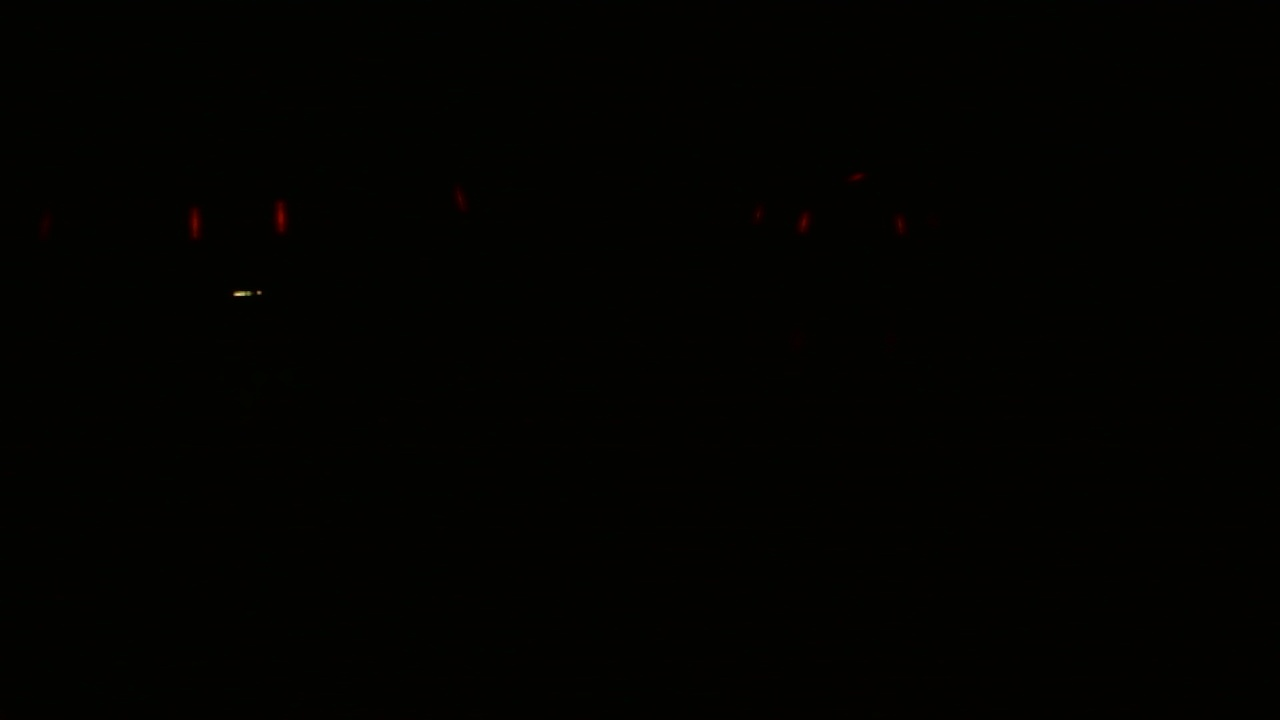pair1: (182, 193, 300, 248), (755, 205, 811, 232)
